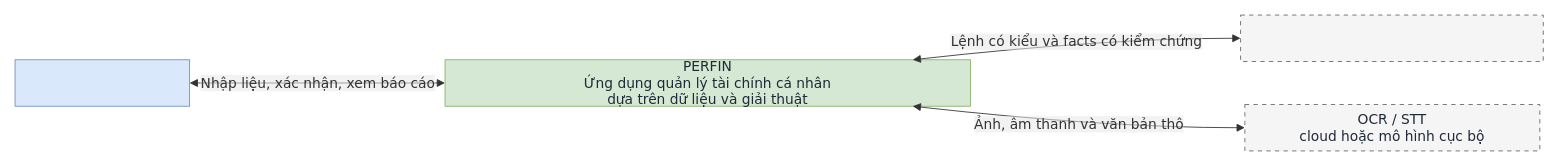
This 1558x166 diagram has some shape labels left out. The centre of each missing label's shape, as x and y in pixels:
"Dịch vụ LLM hiểu ngôn ngữ và diễn giải" goes at (x=1391, y=37).
"Người dùng cá nhân" goes at (x=102, y=82).
